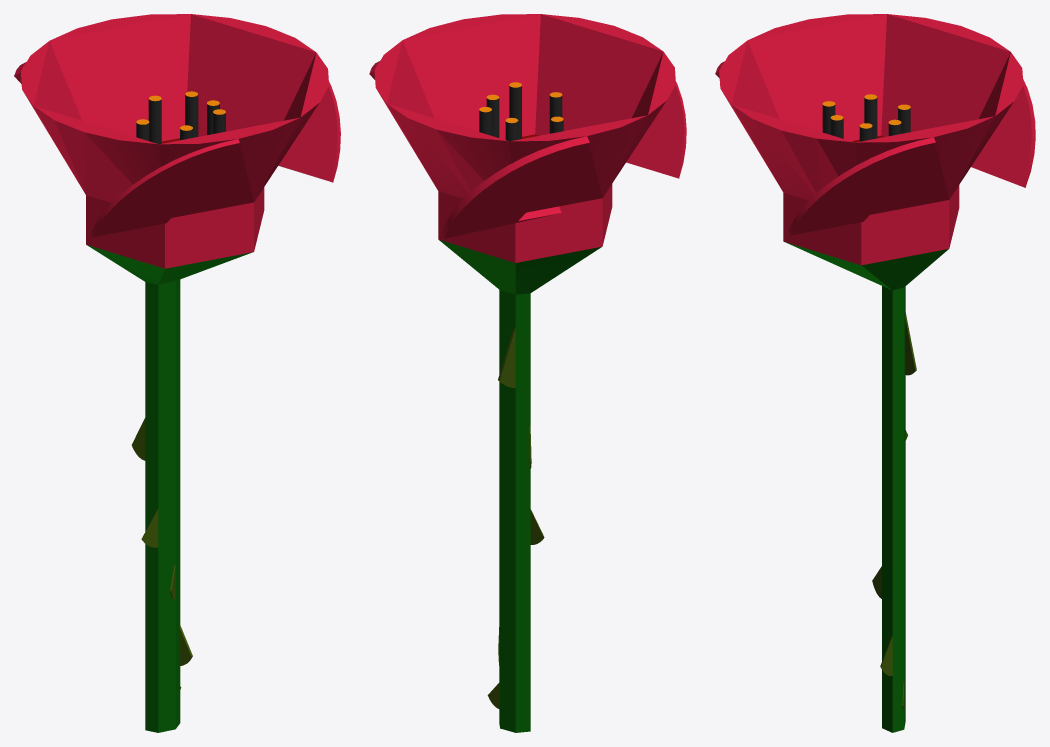
The model's file is flower_3_red.dae.
3 renders of one model, left to right at view 1: azimuth 30°, elevation 25°; view 2: azimuth 150°, elevation 25°; view 3: azimuth 270°, elevation 25°, orthographic. The views are drawn at different scales.
Parts seen in each view (by area): view 1: SketchUp (×3); view 2: SketchUp (×3); view 3: SketchUp (×2).
Part boxes in pixels (<box>): SketchUp (×3): <box>14,14,340,732</box>; SketchUp (×3): <box>369,14,686,732</box>; SketchUp (×2): <box>715,14,1035,732</box>.
Bounding box in the file's own units: 77.15 × 78.42 × 175.
